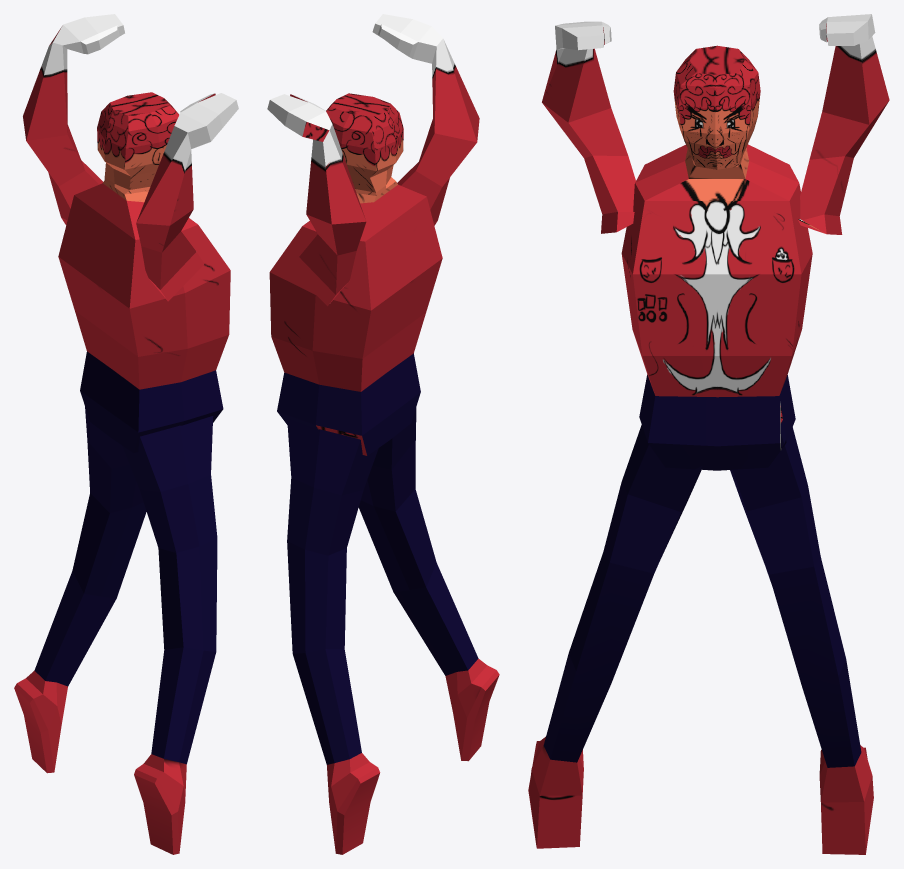
File: SuspenduAuPlafond.fbx
The picture shows the model from 3 angles, left to right: view 1: azimuth 30°, elevation 25°; view 2: azimuth 150°, elevation 25°; view 3: azimuth 270°, elevation 25°; orthographic projection. The views are drawn at different scales.
Visible parts, largest first — view 1: Cube.001; view 2: Cube.001; view 3: Cube.001.
Part boxes in pixels (<box>): Cube.001: <box>14,14,238,854</box>; Cube.001: <box>267,14,499,854</box>; Cube.001: <box>528,14,889,854</box>.
Size of the model in its own units: 86.44 by 492 by 186.
